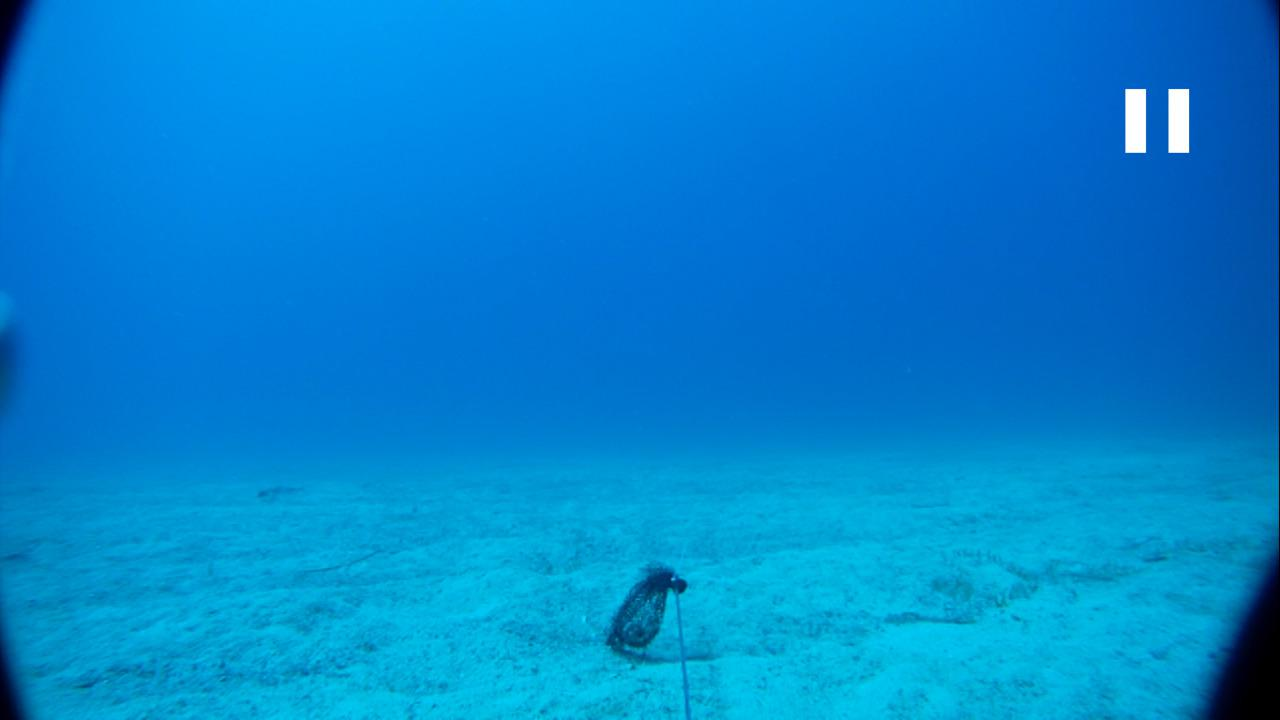dactylopterus: (247, 477, 308, 504)
